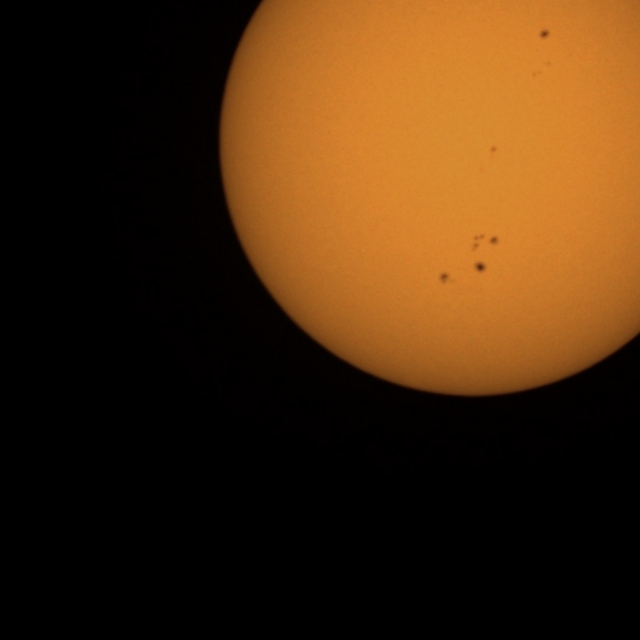sunspot: (470, 232, 499, 255), (532, 60, 552, 77), (437, 270, 452, 286), (473, 259, 487, 274), (487, 234, 500, 246), (539, 28, 551, 40), (531, 68, 544, 78), (489, 145, 498, 155)
